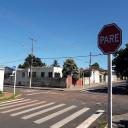Pare: (96, 20, 124, 56)
